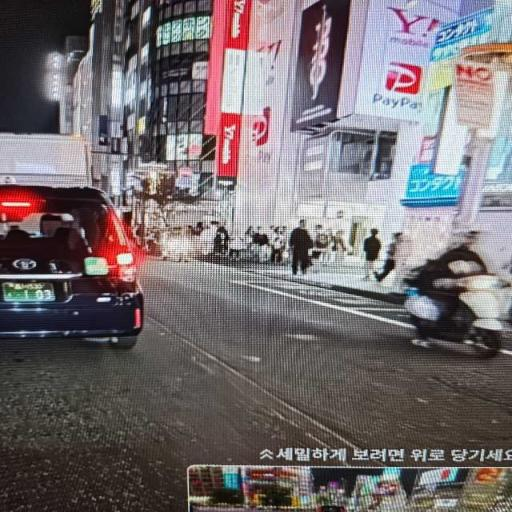car: (0, 186, 143, 348)
lane: (148, 263, 511, 447), (0, 318, 332, 511)
person: (413, 232, 487, 318), (289, 220, 313, 275), (375, 233, 401, 282), (363, 229, 381, 279), (200, 221, 217, 256), (315, 225, 331, 260), (253, 227, 269, 261), (271, 228, 285, 263), (333, 230, 346, 259), (218, 225, 229, 254), (0, 214, 8, 238), (194, 222, 203, 235)
truck: (0, 133, 93, 186)
